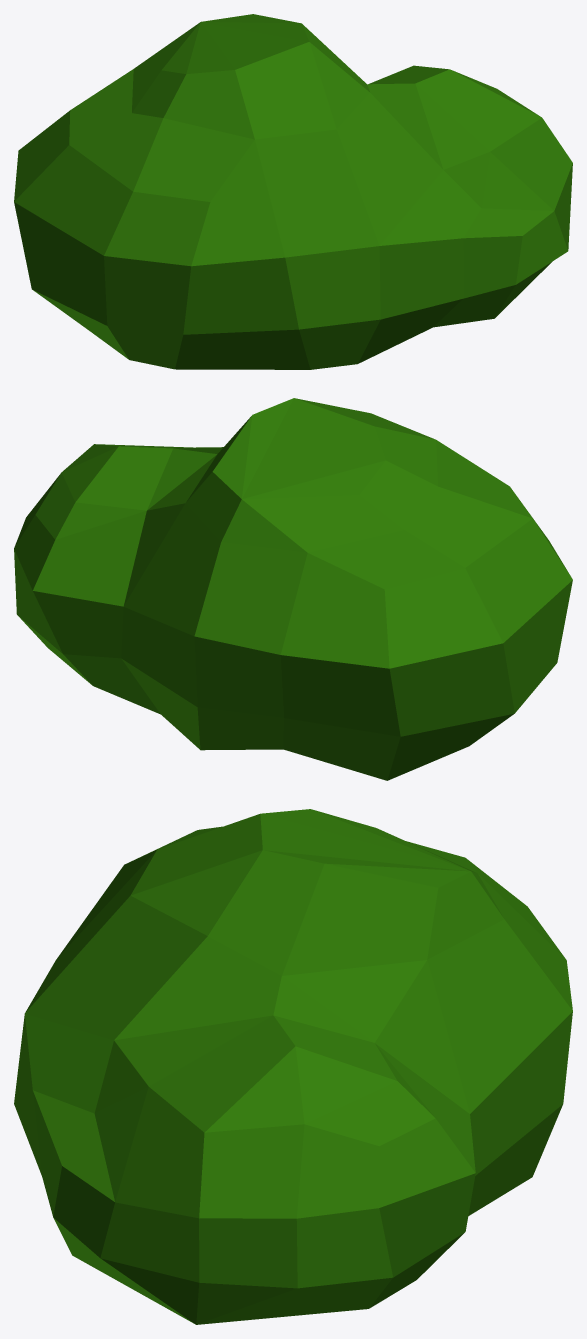
The model's file is Bush_03.fbx.
3 renders of one model, top to bottom at view 1: azimuth 30°, elevation 25°; view 2: azimuth 150°, elevation 25°; view 3: azimuth 270°, elevation 25°, orthographic. The views are drawn at different scales.
Parts seen in each view (by area): view 1: Bush_Model_03; view 2: Bush_Model_03; view 3: Bush_Model_03.
Part boxes in pixels (x1=…): Bush_Model_03: x1=14, y1=14, x2=572, y2=369; Bush_Model_03: x1=14, y1=398, x2=572, y2=780; Bush_Model_03: x1=14, y1=809, x2=572, y2=1324.
Bounding box in the file's own units: 16.98 × 8.67 × 12.69.
Materials: 1 (1 with a texture image).
